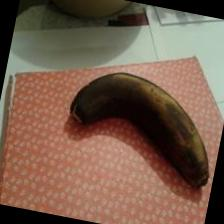Banana Rotten: (54, 55, 224, 196)
